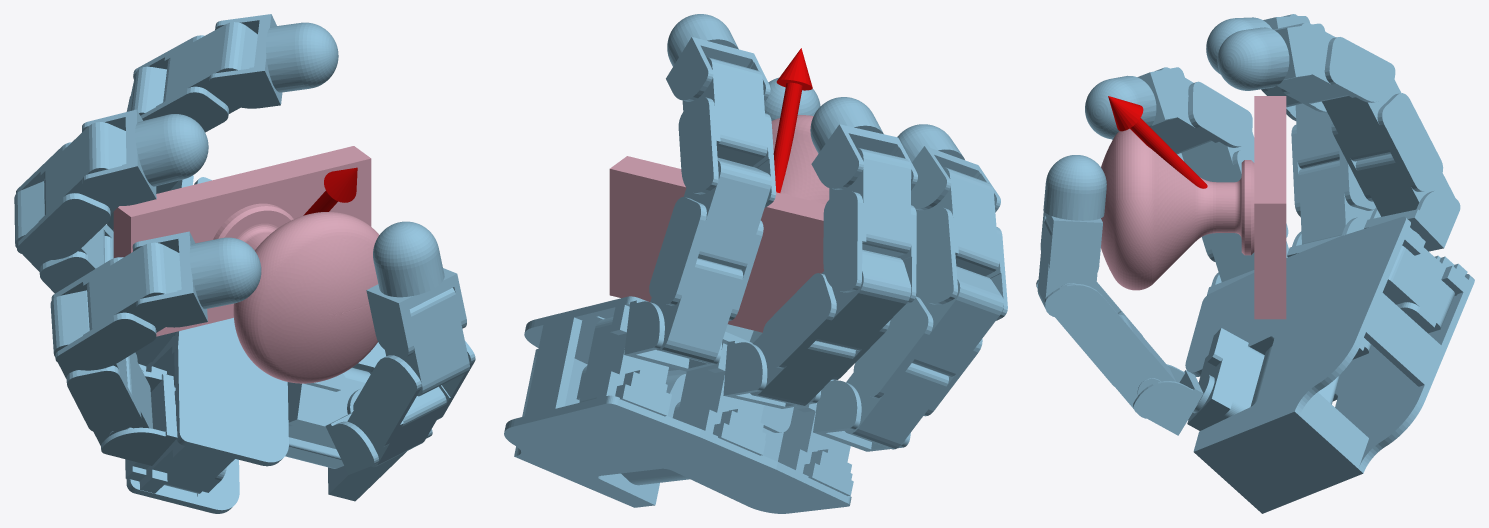
The picture shows the model from 3 angles, left to right: view 1: azimuth 30°, elevation 25°; view 2: azimuth 150°, elevation 25°; view 3: azimuth 270°, elevation 25°; orthographic projection. The views are drawn at different scales.
Visible parts, largest first — view 1: world, door_knob.stl; view 2: world, door_knob.stl; view 3: world, door_knob.stl.
Boxes of the visible parts, x1=… form: world: x1=14, y1=14, x2=475, y2=513; door_knob.stl: x1=113, y1=146, x2=378, y2=383; world: x1=504, y1=14, x2=1007, y2=513; door_knob.stl: x1=609, y1=115, x2=829, y2=332; world: x1=1036, y1=14, x2=1474, y2=513; door_knob.stl: x1=1101, y1=96, x2=1286, y2=319.
Size of the model in its own units: 0.1727 by 0.197 by 0.1721.
